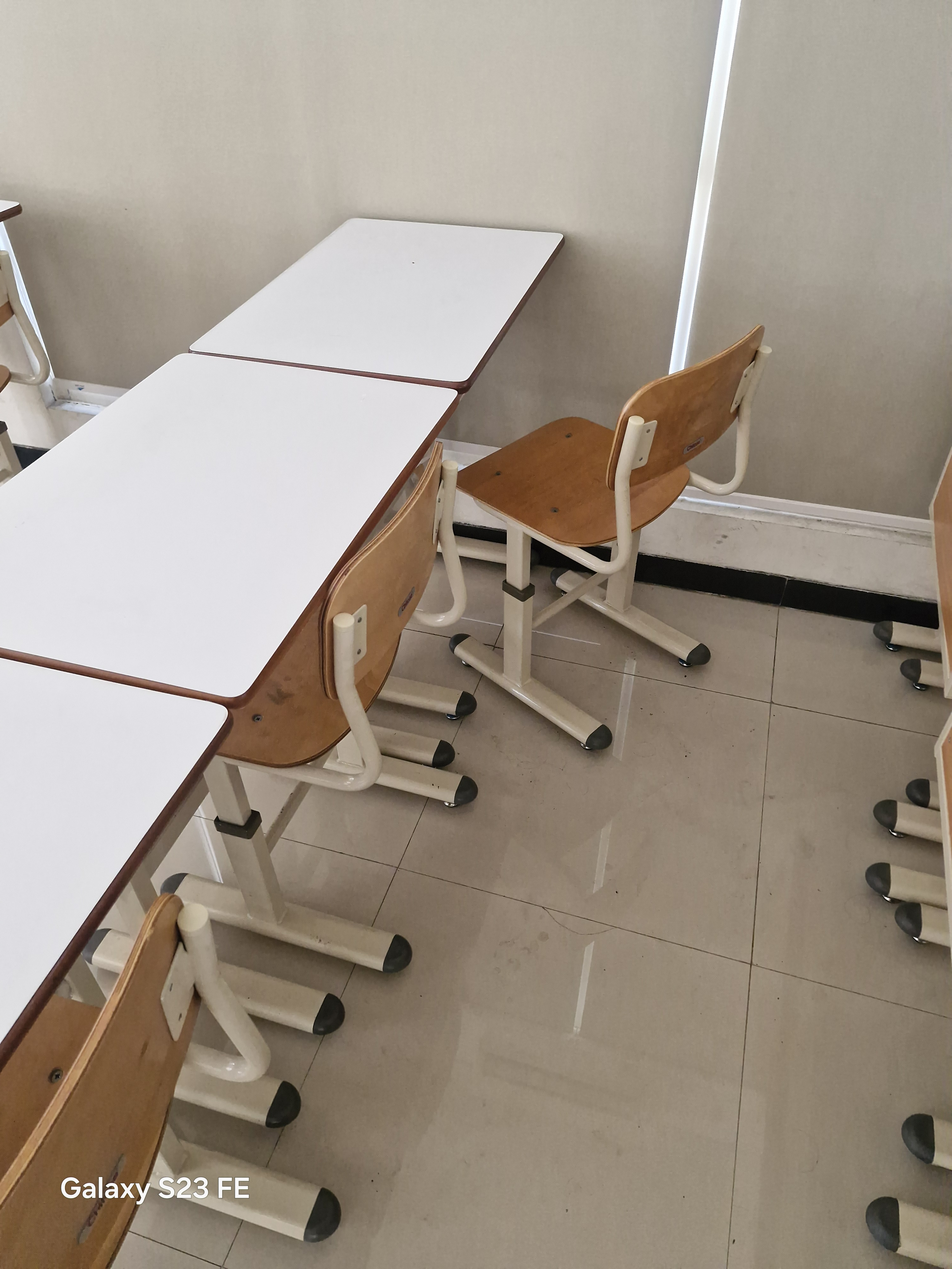chair: (0, 895, 340, 1268), (457, 326, 770, 665), (267, 443, 475, 805), (866, 620, 951, 1268)
floor-other-merged: (0, 489, 951, 1268), (416, 535, 452, 615)
table-merged: (0, 355, 457, 698), (0, 654, 228, 1053), (190, 218, 565, 387)
wall-other-merged: (0, 0, 684, 505), (639, 0, 951, 608), (687, 421, 737, 483)
window-blind: (673, 0, 743, 368)
